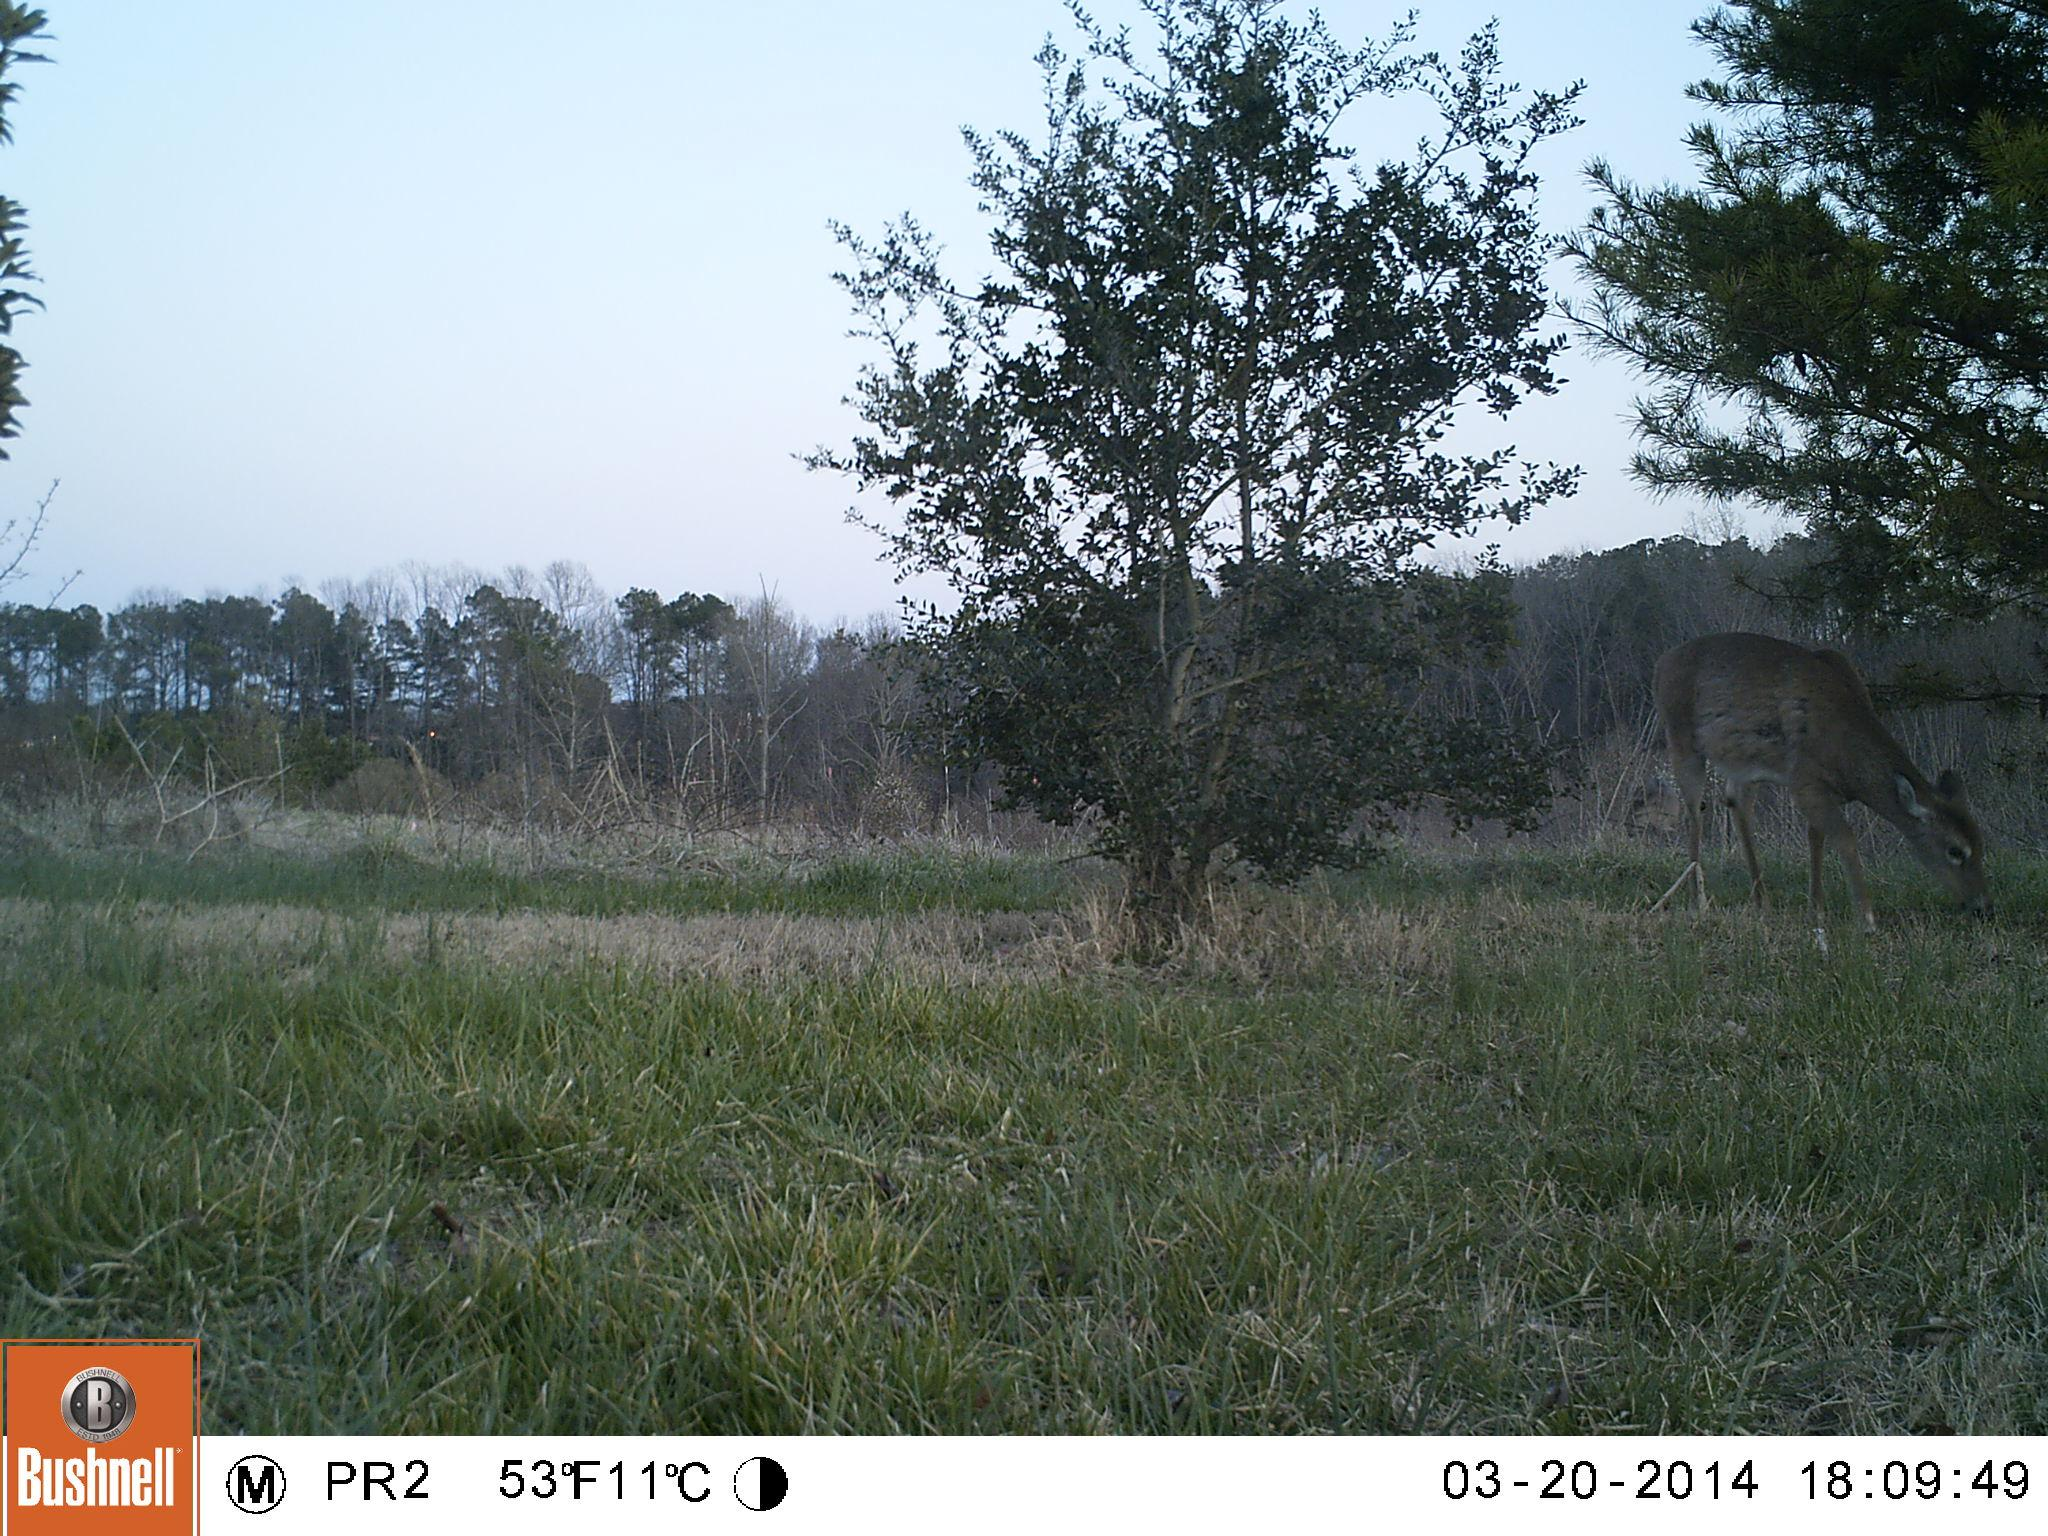Animal: (1650, 632, 1988, 941)
